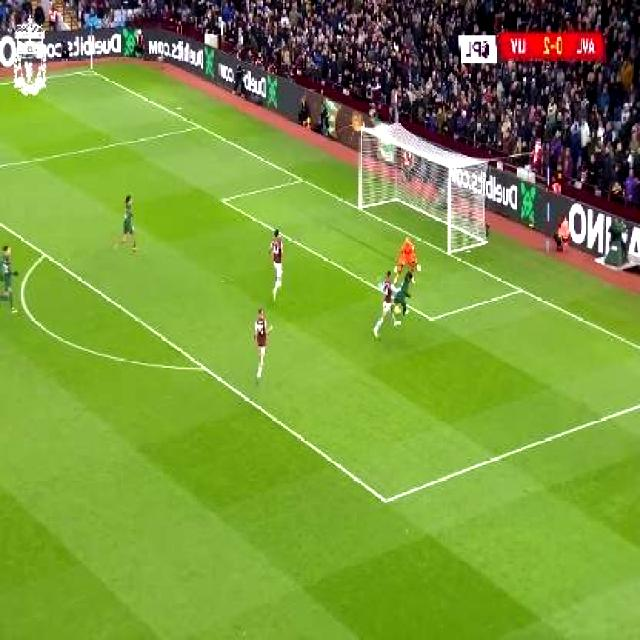bigarea_bottom_inner: (376, 483, 398, 517)
bigarea_top_outter: (190, 116, 208, 136)
bottom_arc_area_intersection: (194, 352, 215, 382)
corner: (80, 61, 100, 77)
smallarea_bottom_inner: (423, 303, 442, 331)
smallarea_bottom_outter: (511, 276, 532, 302)
smallarea_top_inner: (214, 186, 232, 211)
smallarea_top_outter: (294, 168, 312, 190)
top_arc_area_intersection: (37, 242, 54, 263)
